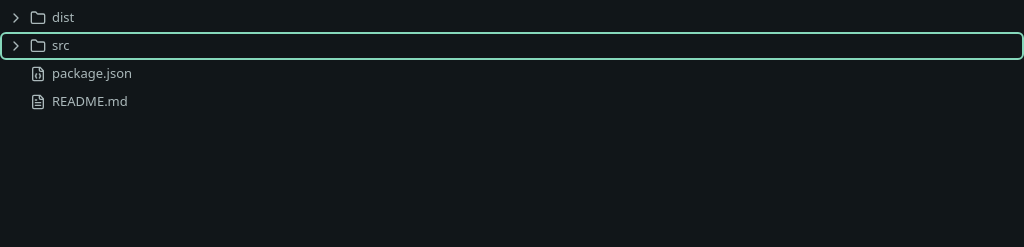
Scenario: FileTree › creates a file from the context menu inside the directory and opens it
Press ContextMenu in the list item "src", box x1=8 y1=36 x2=70 y2=54
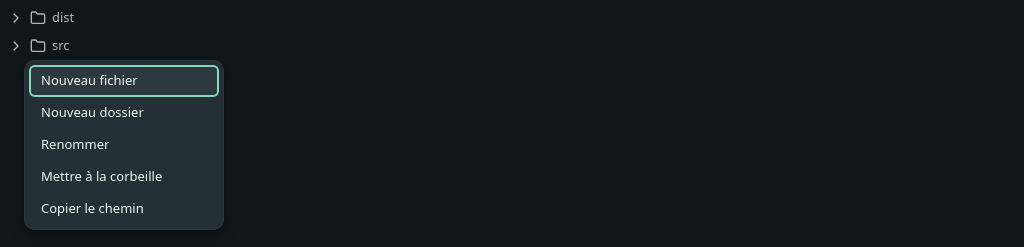
Click the menu item "Nouveau fichier". click: (124, 81)
box: x1=29 y1=65 x2=219 y2=97
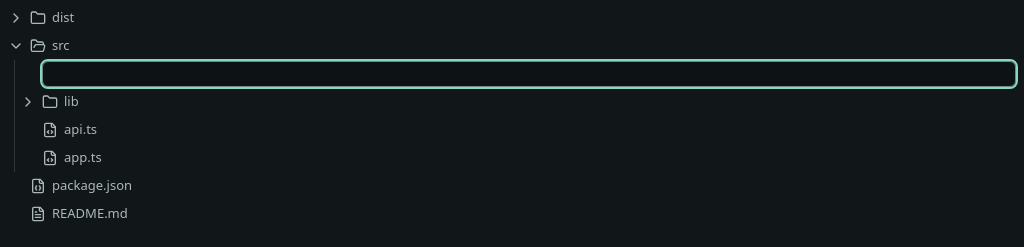
Type "form.tsx" into the field named "Nom du nouveau fichier". click: (529, 74)
box: x1=42 y1=61 x2=1016 y2=87
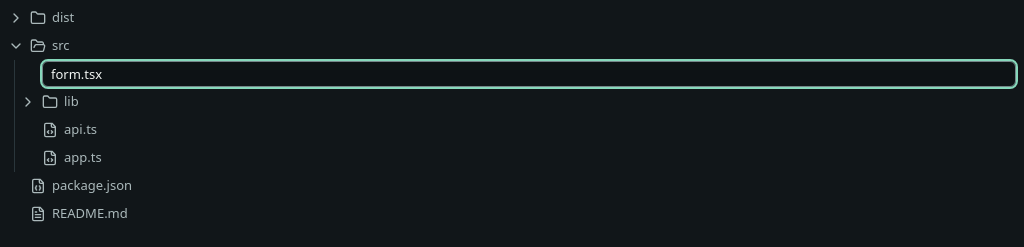
Press Enter in the field named "Nom du nouveau fichier", box x1=42 y1=61 x2=1016 y2=87
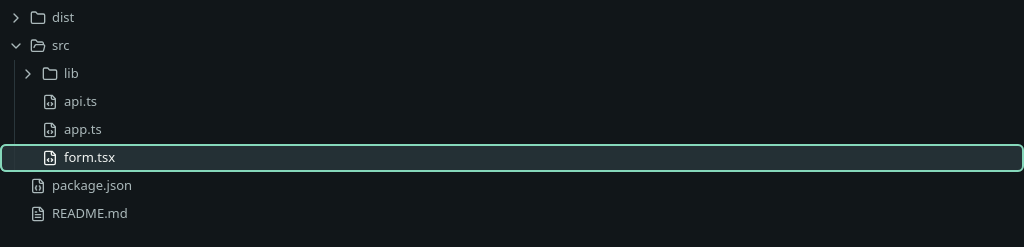
Check: the list item "form.tsx" is shown, box x1=0 y1=144 x2=1023 y2=172
